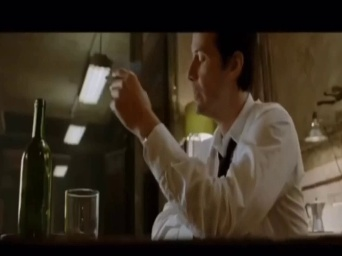smoke: (101, 74, 126, 79)
